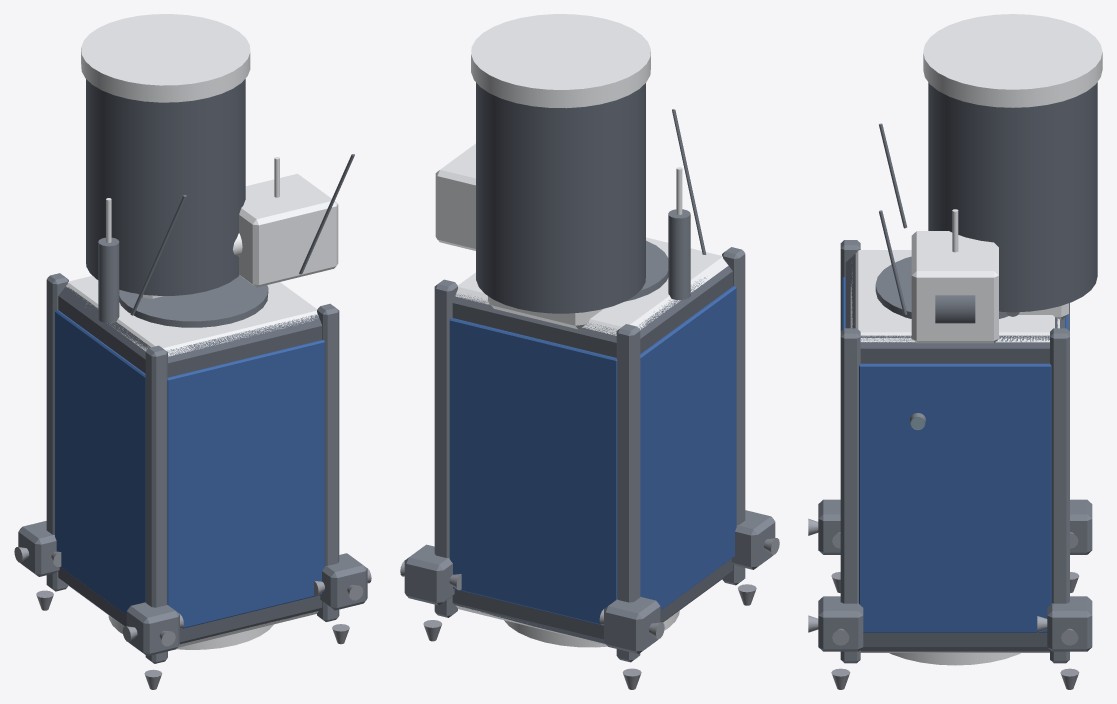
The model's file is modular_spacecraft_bus_smallsat.glb.
3 renders of one model, left to right at view 1: azimuth 30°, elevation 25°; view 2: azimuth 150°, elevation 25°; view 3: azimuth 270°, elevation 25°, orthographic. The views are drawn at different scales.
Visible parts, largest first — view 1: Spacecraft_SolarArrayCells, Spacecraft_CarbonCompositeStructure, Spacecraft_WhippleShieldAlloy, Spacecraft_AnodizedHardwareAndTruss, Spacecraft_PropulsionNozzlesAndTanks; view 2: Spacecraft_SolarArrayCells, Spacecraft_CarbonCompositeStructure, Spacecraft_AnodizedHardwareAndTruss, Spacecraft_WhippleShieldAlloy, Spacecraft_PropulsionNozzlesAndTanks; view 3: Spacecraft_SolarArrayCells, Spacecraft_CarbonCompositeStructure, Spacecraft_WhippleShieldAlloy, Spacecraft_AnodizedHardwareAndTruss, Spacecraft_PropulsionNozzlesAndTanks.
Boxes of the visible parts, left/top/right/bottom form: Spacecraft_SolarArrayCells: left=55, top=310, right=324, bottom=629; Spacecraft_CarbonCompositeStructure: left=58, top=79, right=322, bottom=644; Spacecraft_WhippleShieldAlloy: left=66, top=14, right=338, bottom=649; Spacecraft_AnodizedHardwareAndTruss: left=18, top=154, right=367, bottom=663; Spacecraft_PropulsionNozzlesAndTanks: left=14, top=547, right=371, bottom=689; Spacecraft_SolarArrayCells: left=449, top=286, right=736, bottom=625; Spacecraft_CarbonCompositeStructure: left=452, top=82, right=732, bottom=643; Spacecraft_AnodizedHardwareAndTruss: left=404, top=109, right=775, bottom=662; Spacecraft_WhippleShieldAlloy: left=435, top=14, right=728, bottom=647; Spacecraft_PropulsionNozzlesAndTanks: left=400, top=538, right=779, bottom=689; Spacecraft_SolarArrayCells: left=842, top=277, right=1068, bottom=632; Spacecraft_CarbonCompositeStructure: left=845, top=82, right=1097, bottom=651; Spacecraft_WhippleShieldAlloy: left=850, top=14, right=1102, bottom=665; Spacecraft_AnodizedHardwareAndTruss: left=818, top=123, right=1092, bottom=663; Spacecraft_PropulsionNozzlesAndTanks: left=808, top=518, right=1079, bottom=689.
Size of the model in its own units: 1.23 by 2.6 by 1.18.
